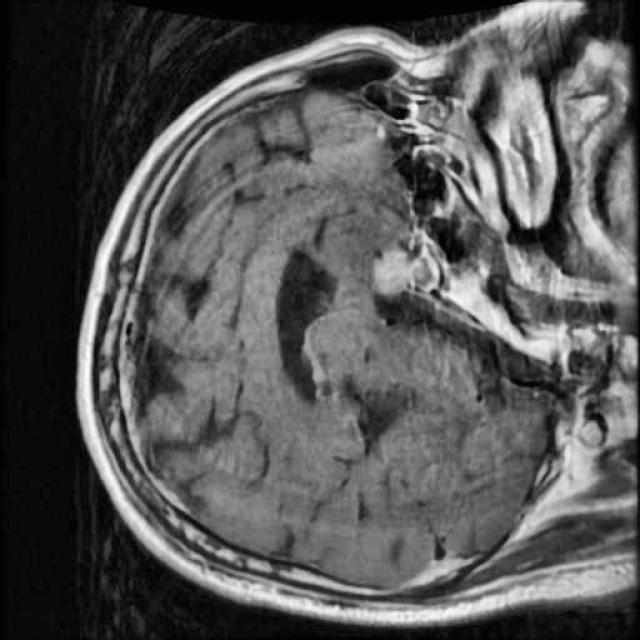Tumor: (364, 238, 444, 305)
